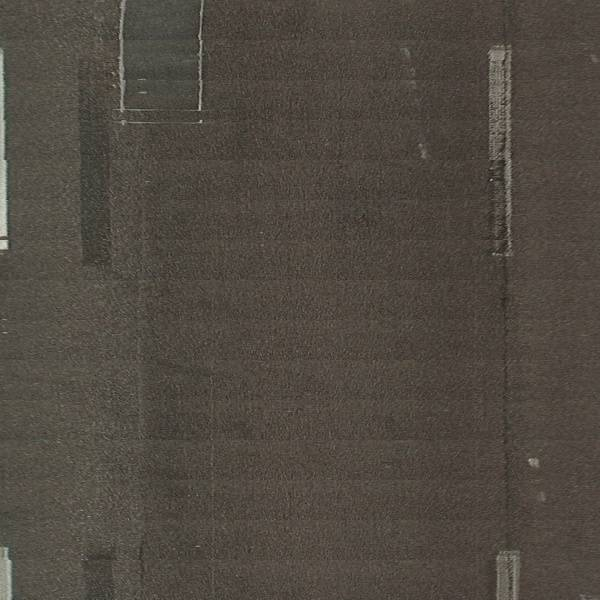road_damage: (113, 1, 212, 128), (498, 274, 519, 549), (485, 155, 519, 265)
